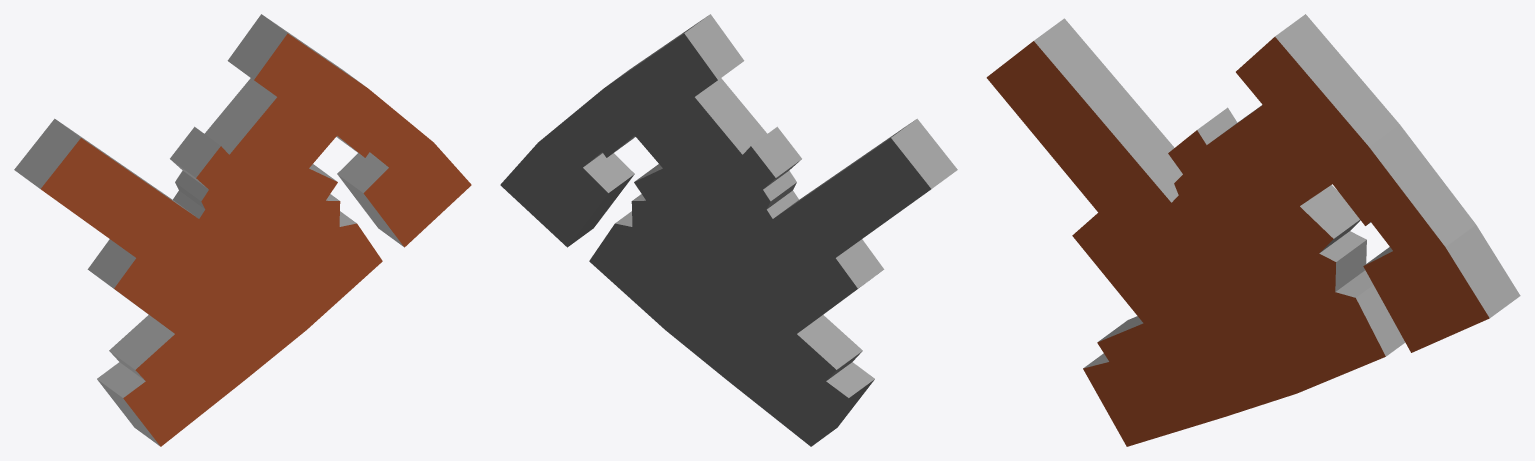
File: construction_6038_assumed_A_Casa_h6m.obj
3 renders of one model, left to right at view 1: azimuth 30°, elevation 25°; view 2: azimuth 150°, elevation 25°; view 3: azimuth 330°, elevation 25°, orthographic. The views are drawn at different scales.
Visible parts, largest first — view 1: construction_6038_assumed_A_Casa; view 2: construction_6038_assumed_A_Casa; view 3: construction_6038_assumed_A_Casa.
Part boxes in pixels (x1,y1,x2,y2): construction_6038_assumed_A_Casa: (14,14,471,446); construction_6038_assumed_A_Casa: (500,14,957,446); construction_6038_assumed_A_Casa: (986,14,1520,446).
Bounding box in the file's own units: 56.64 × 48.01 × 6.
